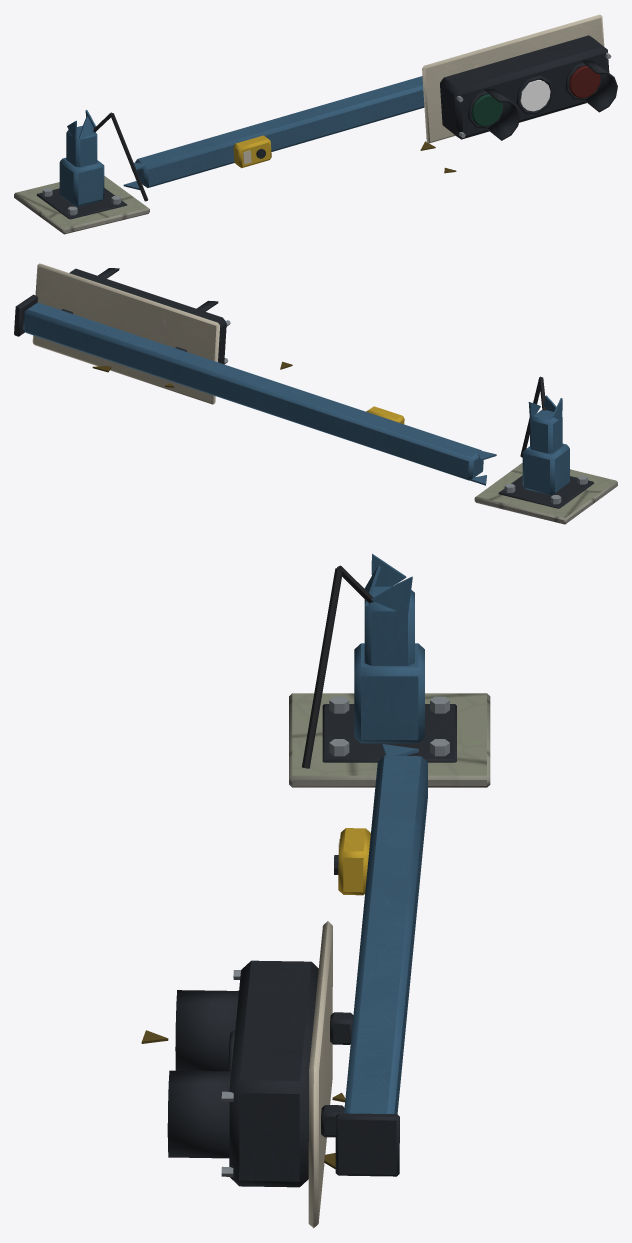
File: traffic_light_fallen.glb
The picture shows the model from 3 angles, top to bottom: view 1: azimuth 30°, elevation 25°; view 2: azimuth 150°, elevation 25°; view 3: azimuth 270°, elevation 25°; orthographic projection. The views are drawn at different scales.
Visible parts, largest first — view 1: traffic_light_fallen; view 2: traffic_light_fallen; view 3: traffic_light_fallen.
Part boxes in pixels (x1,y1,x2,y2): traffic_light_fallen: (14, 14, 617, 234); traffic_light_fallen: (14, 263, 617, 524); traffic_light_fallen: (141, 553, 490, 1228).
Size of the model in its own units: 3.78 by 0.6911 by 1.04.
Materials: 12 (12 with a texture image).
